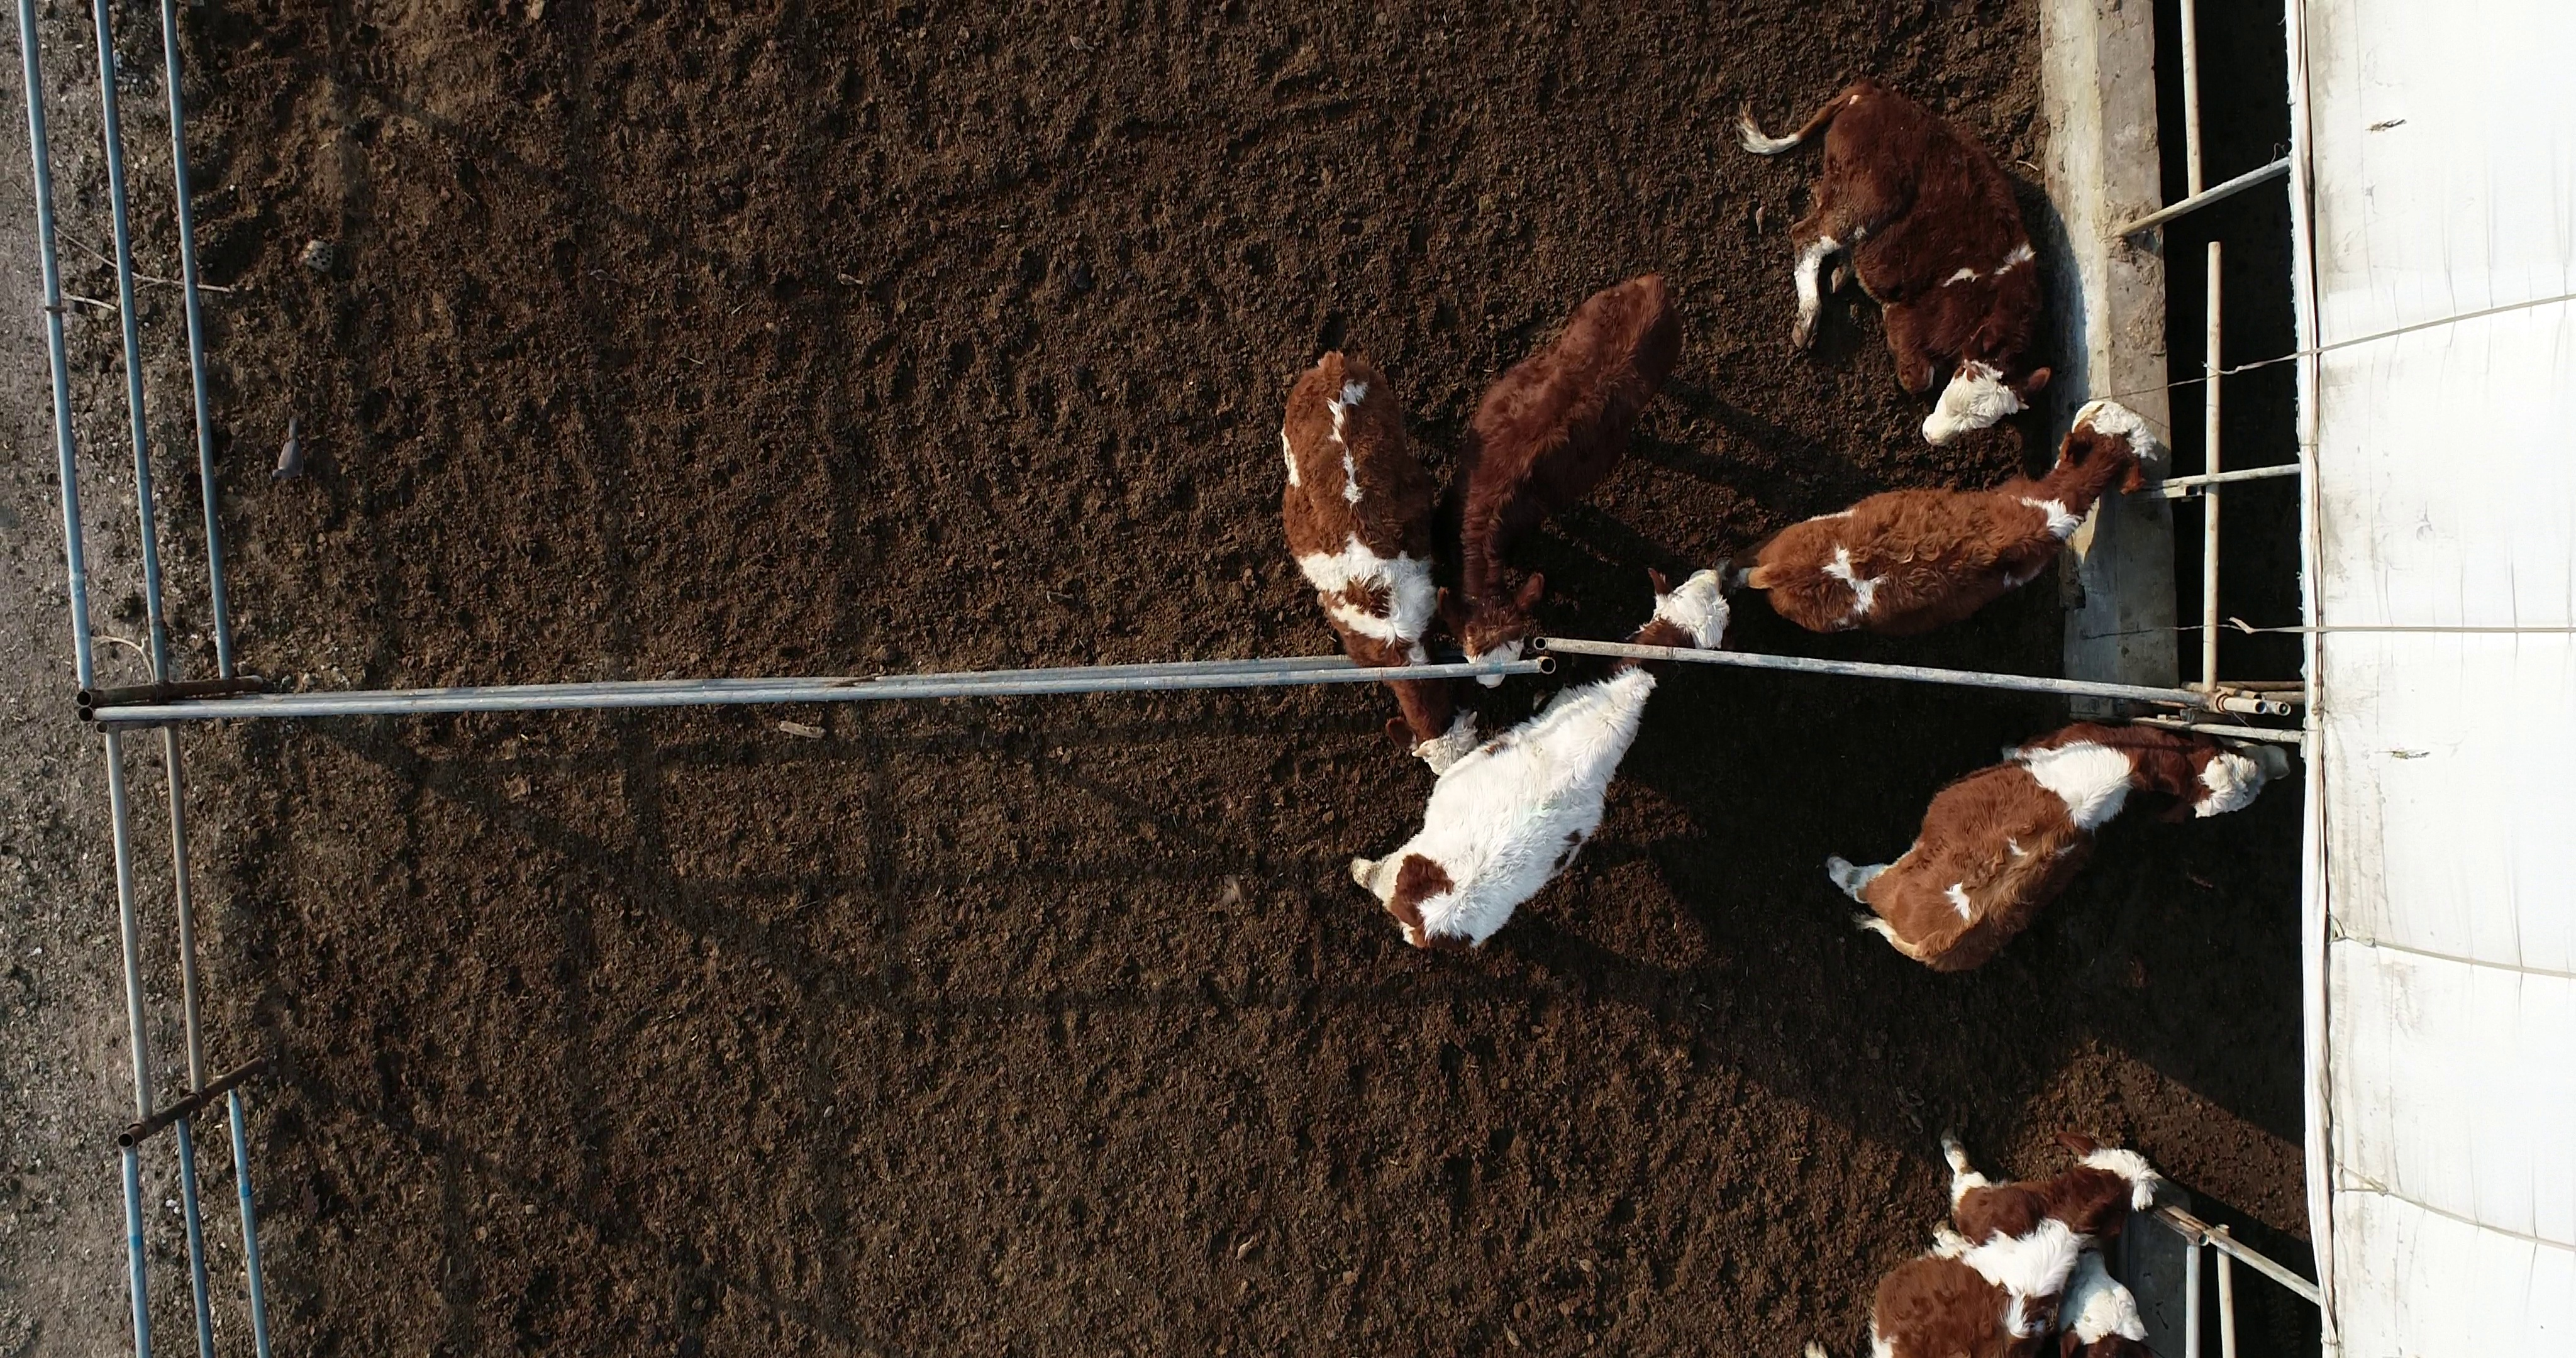cattle: (1341, 561, 1745, 963), (1731, 73, 2068, 450), (1818, 719, 2297, 980), (1714, 394, 2160, 649), (1433, 266, 1692, 695), (1274, 348, 1484, 784)
